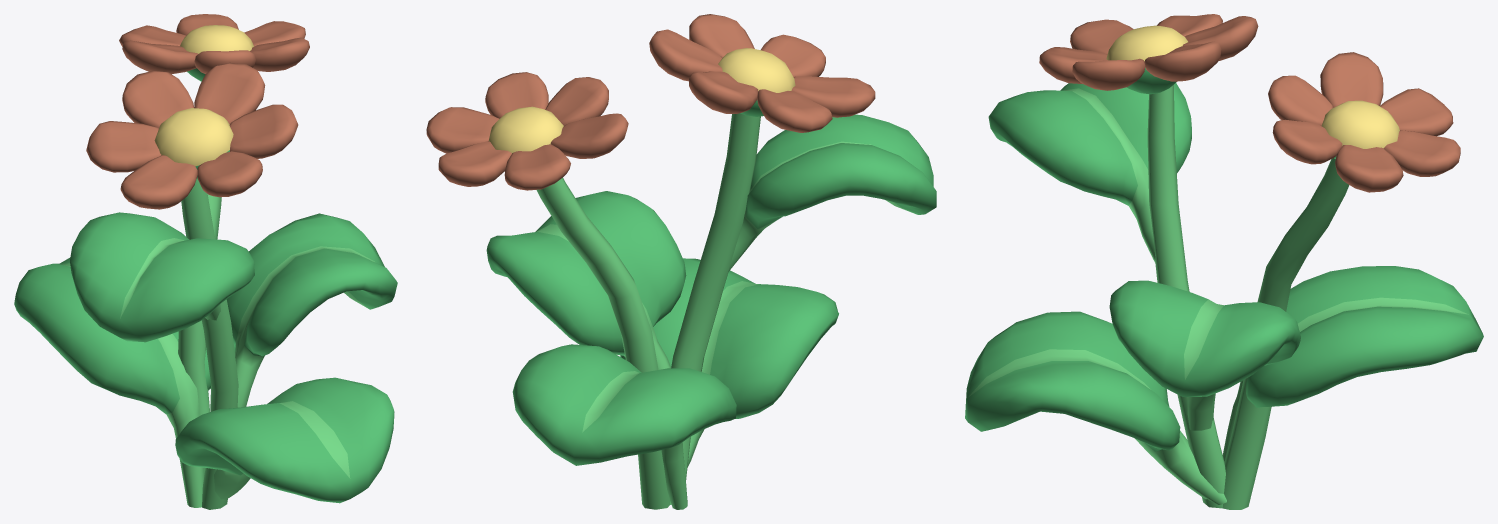
Rendered from Flora_A_02.fbx.
3 renders of one model, left to right at view 1: azimuth 30°, elevation 25°; view 2: azimuth 150°, elevation 25°; view 3: azimuth 270°, elevation 25°, orthographic. The views are drawn at different scales.
Parts seen in each view (by area): view 1: Flora_A_02_LOD0; view 2: Flora_A_02_LOD0; view 3: Flora_A_02_LOD0.
Part boxes in pixels (x1,y1,x2,y2): Flora_A_02_LOD0: [14, 14, 397, 509]; Flora_A_02_LOD0: [426, 14, 936, 509]; Flora_A_02_LOD0: [965, 14, 1483, 509].
Size of what is drawn, in the model's own units: 410 by 478 by 483.
